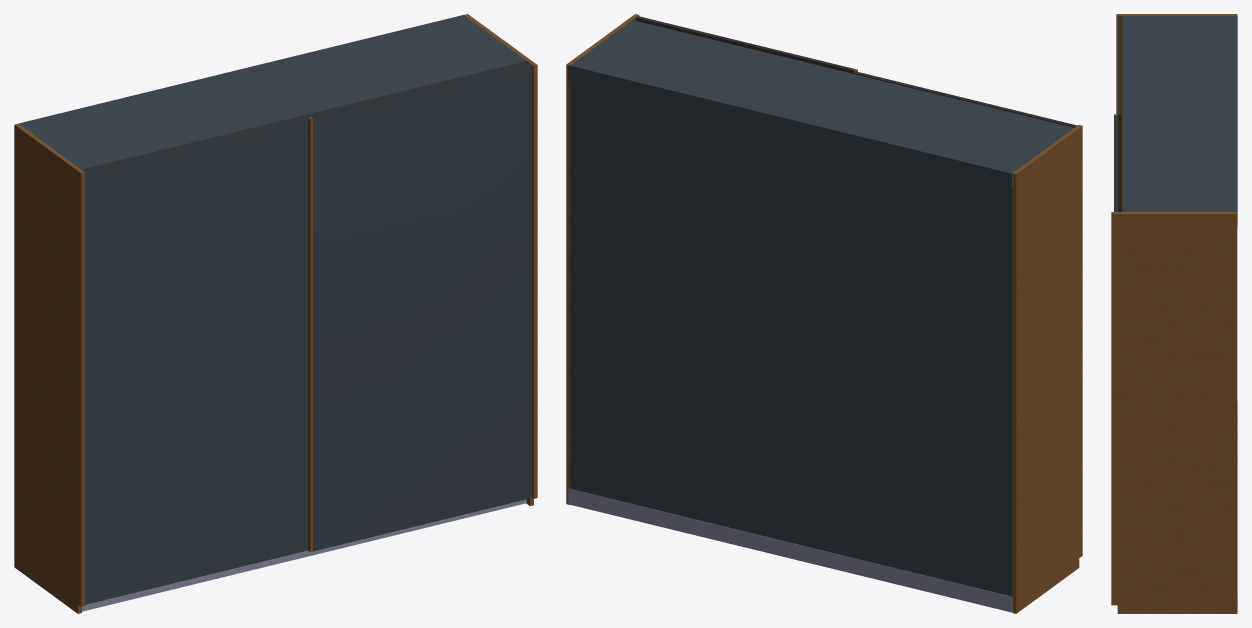
3 renders of one model, left to right at view 1: azimuth 30°, elevation 25°; view 2: azimuth 150°, elevation 25°; view 3: azimuth 270°, elevation 25°, orthographic. The views are drawn at different scales.
Parts seen in each view (by area): view 1: C-skpFBE9, xcm_doorL; view 2: C-skpFBE9, xcm_doorL; view 3: C-skpFBE9, xcm_doorL.
Boxes of the visible parts, x1,y1,x2,y2 form: C-skpFBE9: (14, 14, 537, 613); xcm_doorL: (78, 115, 308, 613); C-skpFBE9: (566, 14, 1082, 613); xcm_doorL: (852, 71, 1077, 127); C-skpFBE9: (1111, 14, 1237, 613); xcm_doorL: (1116, 15, 1121, 211).
Size of the model in its own units: 2.25 by 2.1 by 0.6.
4 materials, 1 textured.
